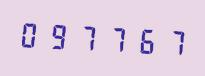nine: (45, 17, 72, 54)
seven: (158, 22, 185, 60), (74, 18, 101, 55), (102, 20, 129, 57)
six: (130, 21, 157, 58)
zero: (17, 15, 44, 52)
